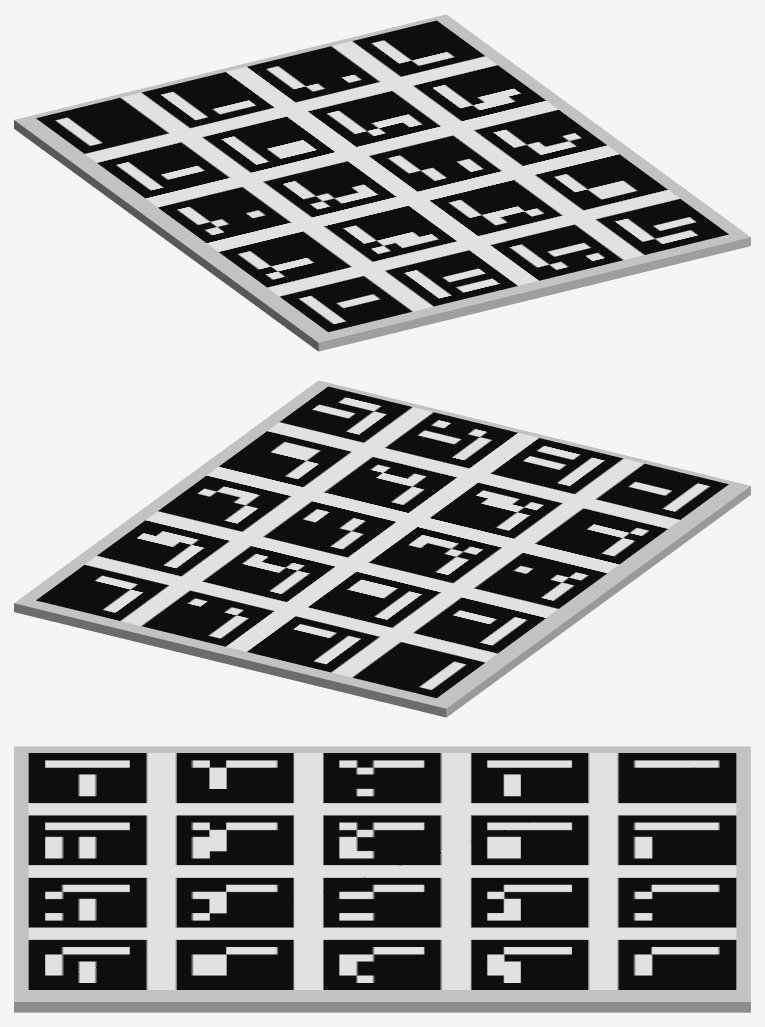
The model's file is gripper_marker.dae.
The picture shows the model from 3 angles, top to bottom: view 1: azimuth 30°, elevation 25°; view 2: azimuth 150°, elevation 25°; view 3: azimuth 270°, elevation 25°; orthographic projection. The views are drawn at different scales.
Parts seen in each view (by area): view 1: leeward_mid_1, Cube; view 2: leeward_mid_1, Cube; view 3: leeward_mid_1, Cube.
Boxes of the visible parts, <box> form: leeward_mid_1: <box>36,20,728,332</box>; Cube: <box>14,14,750,351</box>; leeward_mid_1: <box>36,386,728,698</box>; Cube: <box>14,380,750,717</box>; leeward_mid_1: <box>28,753,736,989</box>; Cube: <box>14,746,750,1012</box>.
Size of the model in its own units: 0.205 by 0.25 by 0.005.
Materials: 2 (1 with a texture image).
